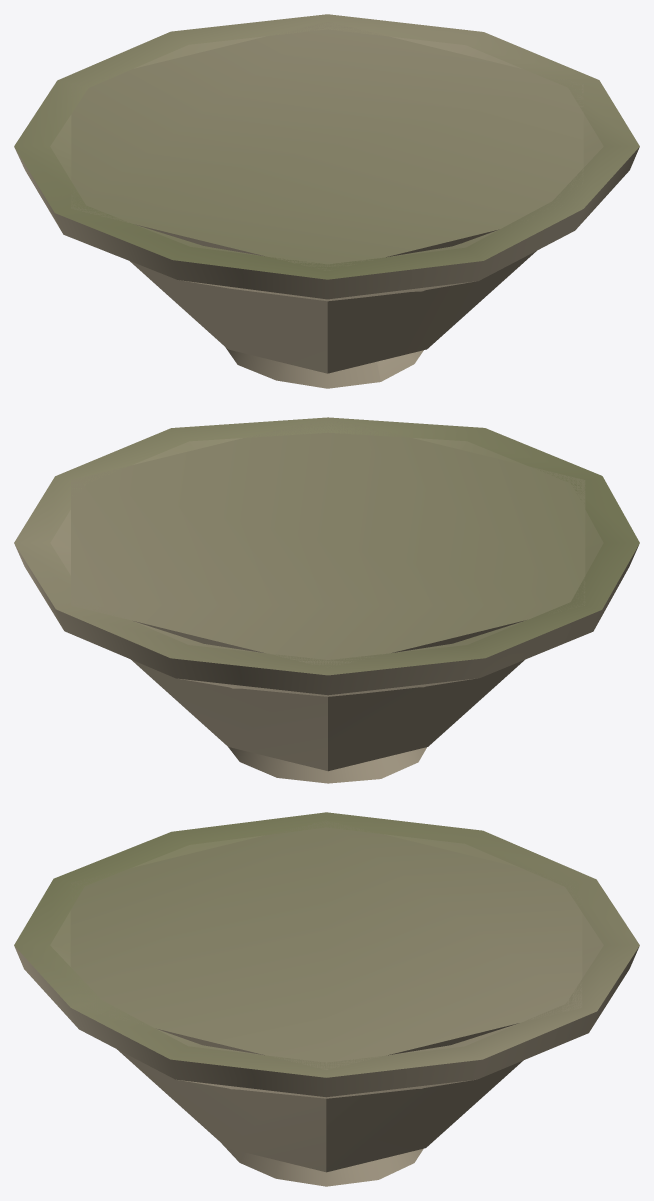
The model's file is shrine_gilt.glb.
The picture shows the model from 3 angles, top to bottom: view 1: azimuth 30°, elevation 25°; view 2: azimuth 150°, elevation 25°; view 3: azimuth 270°, elevation 25°; orthographic projection.
Parts seen in each view (by area): view 1: shrine_gilt_far, shrine_gilt; view 2: shrine_gilt_far, shrine_gilt; view 3: shrine_gilt_far, shrine_gilt.
Boxes of the visible parts, box(x1,y1,x2,y2) form: shrine_gilt_far: box(71, 22, 583, 373); shrine_gilt: box(14, 14, 639, 388); shrine_gilt_far: box(71, 417, 585, 771); shrine_gilt: box(14, 417, 639, 783); shrine_gilt_far: box(70, 820, 582, 1172); shrine_gilt: box(14, 812, 639, 1186).
Bounding box in the file's own units: 1.91 × 0.66 × 1.91.
